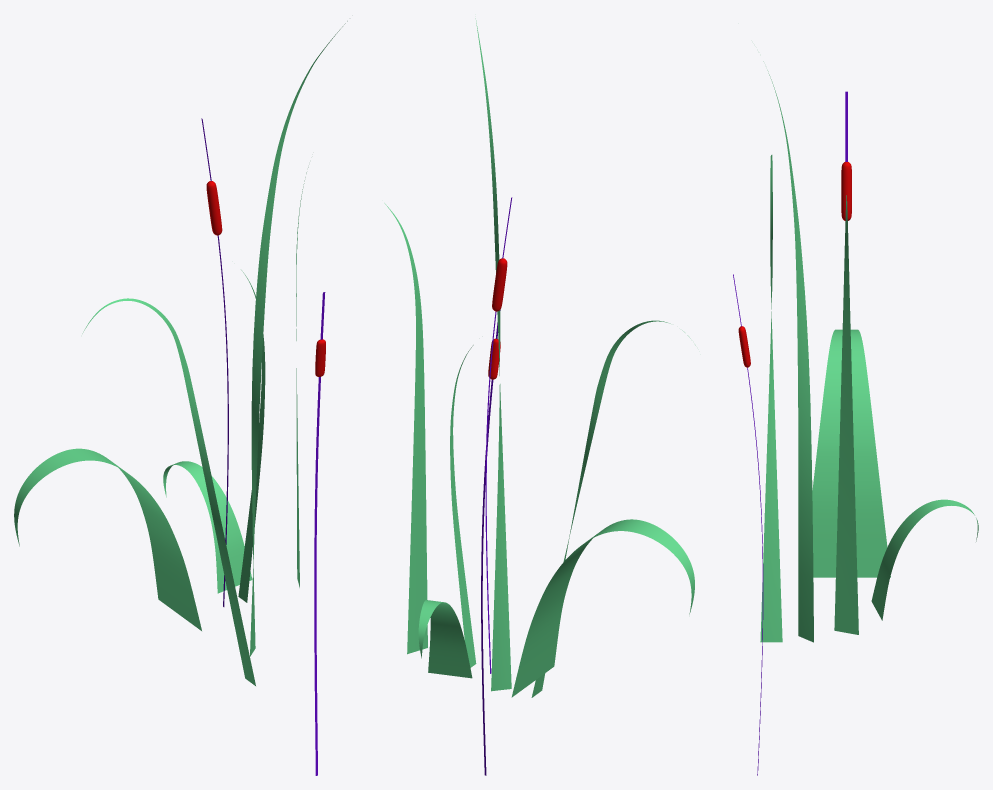
Rendered from Reeds.fbx.
3 views of the same model, side by side, from view 1: azimuth 30°, elevation 25°; view 2: azimuth 150°, elevation 25°; view 3: azimuth 270°, elevation 25° (orthographic). The views are drawn at different scales.
Parts seen in each view (by area): view 1: sweep2, sweep6, sweep5, sweep7, sweep4, sweep8, sweep1, sweep3, Reed_Bud; view 2: sweep2, sweep3, sweep6, sweep7, sweep4, sweep5, sweep8, sweep1, Reed_Bud; view 3: sweep2, sweep3, sweep6, sweep5, sweep7, sweep8, Reed_Bud.
Part boxes in pixels (x1,y1,x2,y2): sweep2: [14, 448, 201, 630]; sweep6: [250, 21, 347, 656]; sweep5: [82, 298, 255, 685]; sweep7: [163, 461, 252, 593]; sweep4: [238, 270, 265, 602]; sweep8: [314, 292, 325, 775]; sweep1: [201, 118, 228, 606]; sweep3: [296, 167, 308, 587]; Reed_Bud: [206, 181, 222, 235]; sweep2: [511, 519, 694, 697]; sweep3: [384, 203, 427, 654]; sweep6: [475, 18, 511, 691]; sweep7: [418, 600, 472, 678]; sweep4: [450, 345, 476, 667]; sweep5: [531, 320, 695, 697]; sweep8: [481, 310, 500, 775]; sweep1: [485, 197, 512, 673]; Reed_Bud: [492, 258, 507, 311]; sweep2: [812, 329, 890, 577]; sweep3: [834, 195, 858, 634]; sweep6: [763, 61, 813, 642]; sweep5: [760, 155, 782, 642]; sweep7: [871, 499, 978, 620]; sweep8: [733, 274, 763, 775]; Reed_Bud: [841, 162, 851, 220].
Size of the model in its own units: 8.39 by 19.24 by 5.58.
